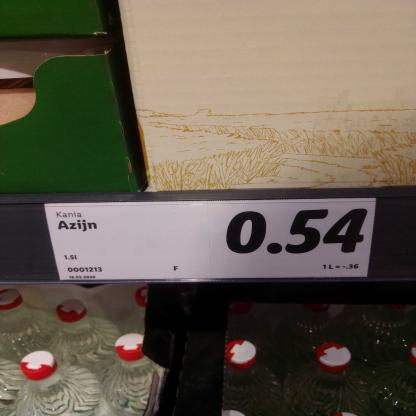prtg: (45, 199, 377, 281)
